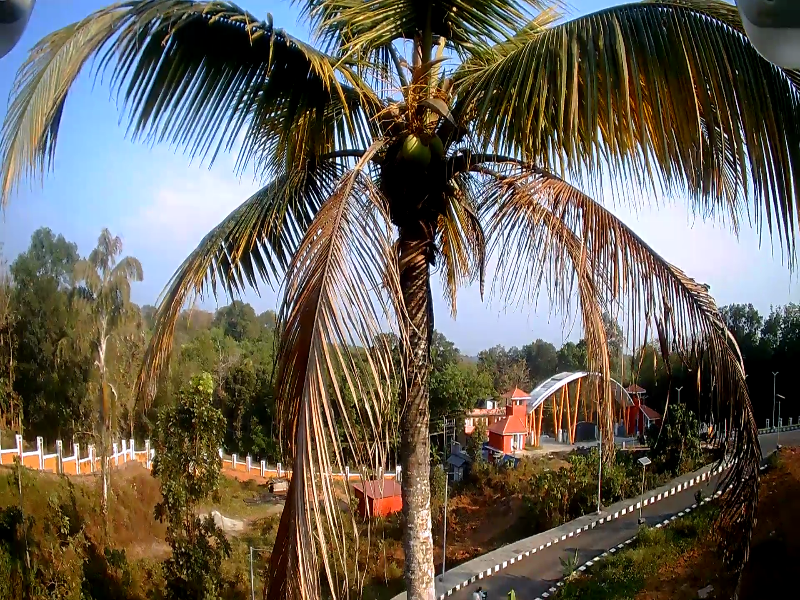coconut: (406, 127, 428, 165)
